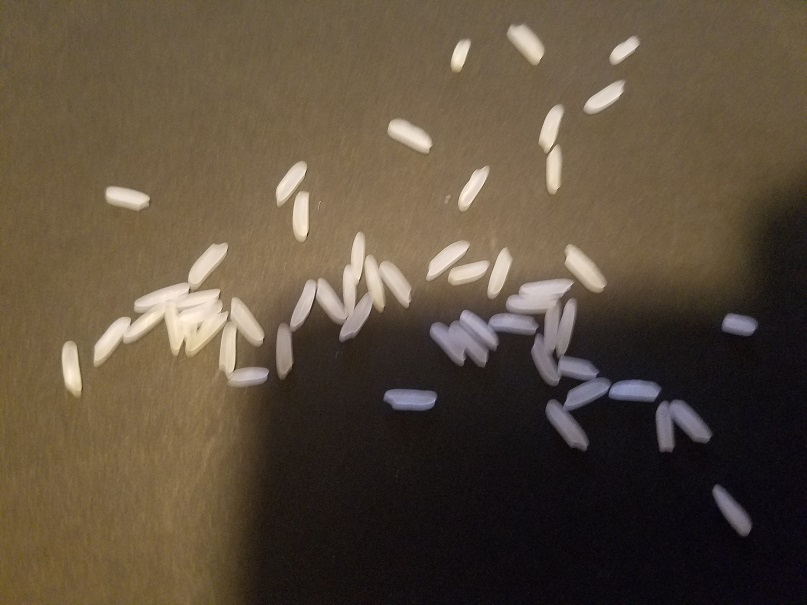egg: (708, 480, 753, 539), (544, 399, 592, 454), (182, 240, 228, 292), (669, 393, 713, 447), (564, 242, 607, 297), (375, 257, 416, 314), (335, 289, 378, 341), (448, 318, 490, 371), (383, 115, 435, 157), (423, 236, 471, 281), (117, 305, 169, 346), (457, 304, 503, 350), (505, 21, 548, 70), (580, 75, 629, 118), (93, 315, 131, 368), (185, 311, 229, 355), (482, 245, 516, 301), (524, 335, 560, 387), (453, 163, 491, 212), (230, 298, 267, 348), (271, 160, 308, 210), (131, 281, 187, 313), (288, 277, 319, 331), (168, 283, 225, 311), (313, 279, 345, 327), (104, 186, 153, 217), (537, 101, 565, 155), (429, 324, 464, 367), (172, 296, 222, 326), (271, 321, 295, 383), (651, 398, 677, 455), (445, 256, 489, 289), (381, 388, 441, 412), (565, 377, 611, 408), (716, 310, 761, 341), (556, 294, 578, 357), (60, 339, 83, 399), (605, 31, 643, 67), (541, 143, 565, 199), (603, 379, 661, 400), (363, 254, 383, 314), (503, 292, 562, 312), (290, 189, 311, 245), (161, 305, 182, 359), (491, 309, 536, 333), (339, 262, 357, 321), (516, 277, 578, 294), (217, 367, 272, 386), (447, 36, 472, 76), (542, 302, 561, 354), (349, 230, 365, 290), (219, 321, 236, 377), (554, 356, 599, 377)
